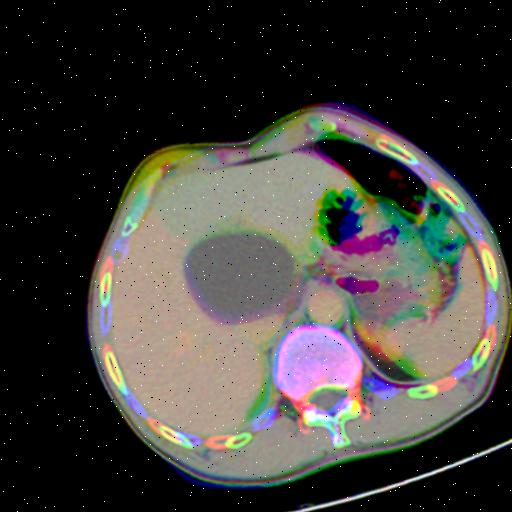Cyst: (182, 232, 292, 323)
